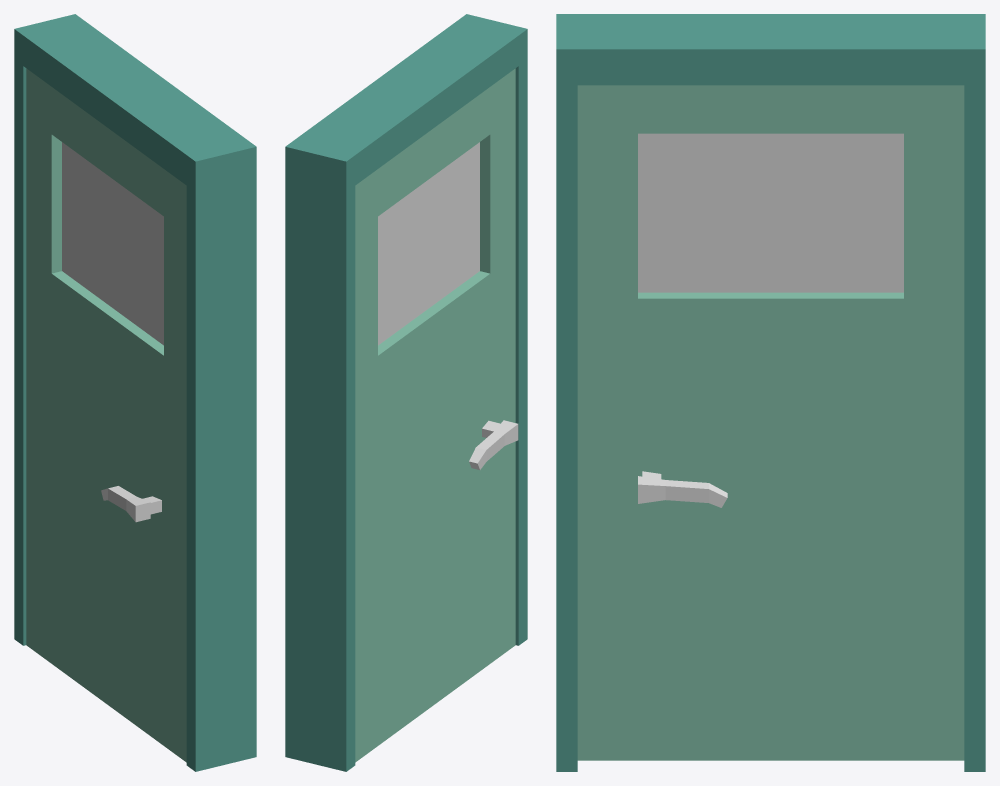
Rendered from classroomDoor.fbx.
3 views of the same model, side by side, from view 1: azimuth 30°, elevation 25°; view 2: azimuth 150°, elevation 25°; view 3: azimuth 270°, elevation 25° (orthographic). The views are drawn at different scales.
Parts seen in each view (by area): view 1: Cube.003, Cube.001, Cube.004, Cube.006; view 2: Cube.003, Cube.001, Cube.004, Cube.006; view 3: Cube.003, Cube.001, Cube.004, Cube.005.
Boxes of the visible parts, x1=… form: Cube.003: x1=26, y1=68, x2=186, y2=762; Cube.001: x1=14, y1=14, x2=256, y2=771; Cube.004: x1=62, y1=142, x2=163, y2=345; Cube.006: x1=101, y1=486, x2=161, y2=522; Cube.003: x1=355, y1=68, x2=515, y2=762; Cube.001: x1=285, y1=14, x2=527, y2=771; Cube.004: x1=378, y1=142, x2=479, y2=345; Cube.006: x1=469, y1=420, x2=518, y2=469; Cube.003: x1=577, y1=85, x2=964, y2=760; Cube.001: x1=556, y1=14, x2=985, y2=771; Cube.004: x1=638, y1=133, x2=903, y2=292; Cube.005: x1=638, y1=471, x2=727, y2=507.
Bounding box in the file's own units: 39.39 × 242 × 130.
